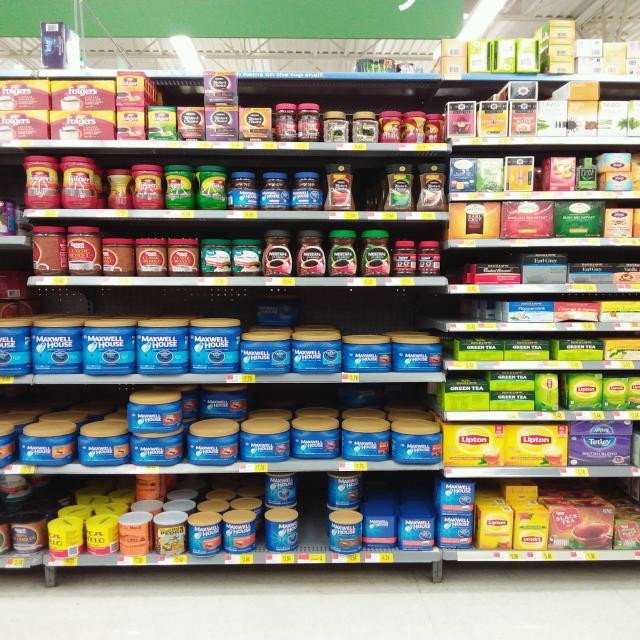void: (84, 28, 350, 70), (0, 24, 35, 69), (304, 473, 323, 551), (358, 162, 385, 208)
